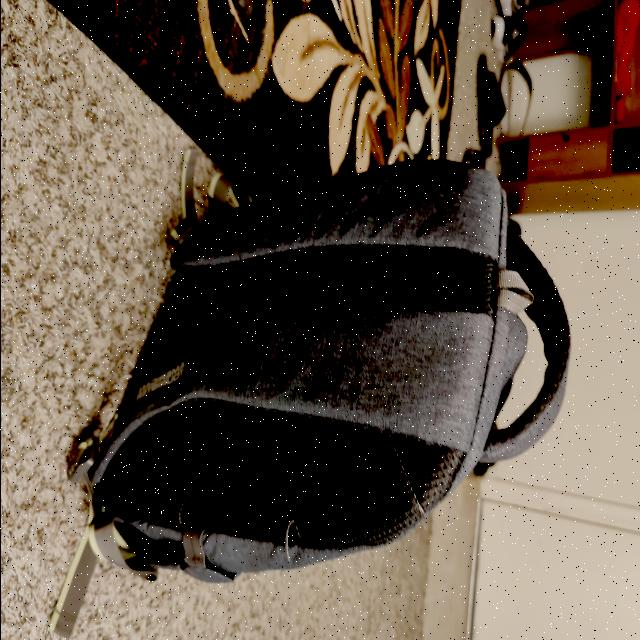bag: (120, 178, 570, 562)
